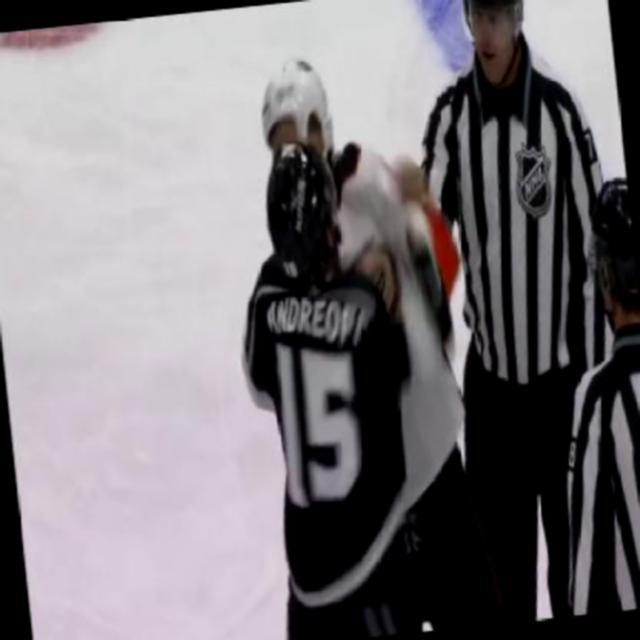fight: (204, 31, 486, 638)
